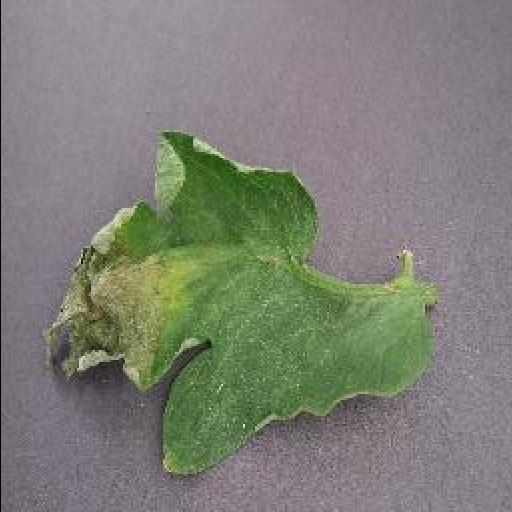disease_tomato: (44, 130, 438, 478)
